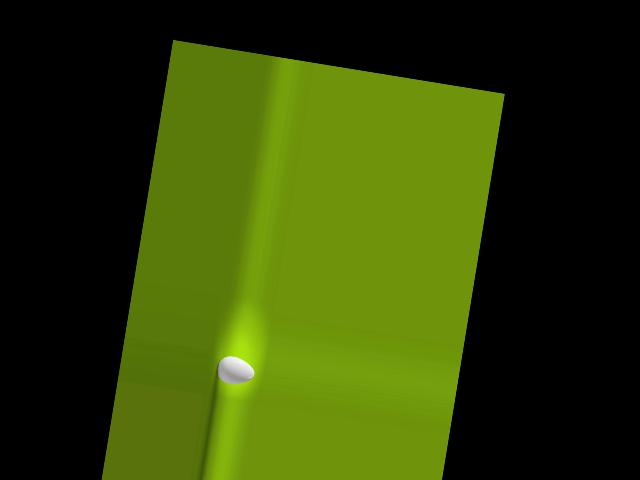egg: (215, 354, 257, 387)
